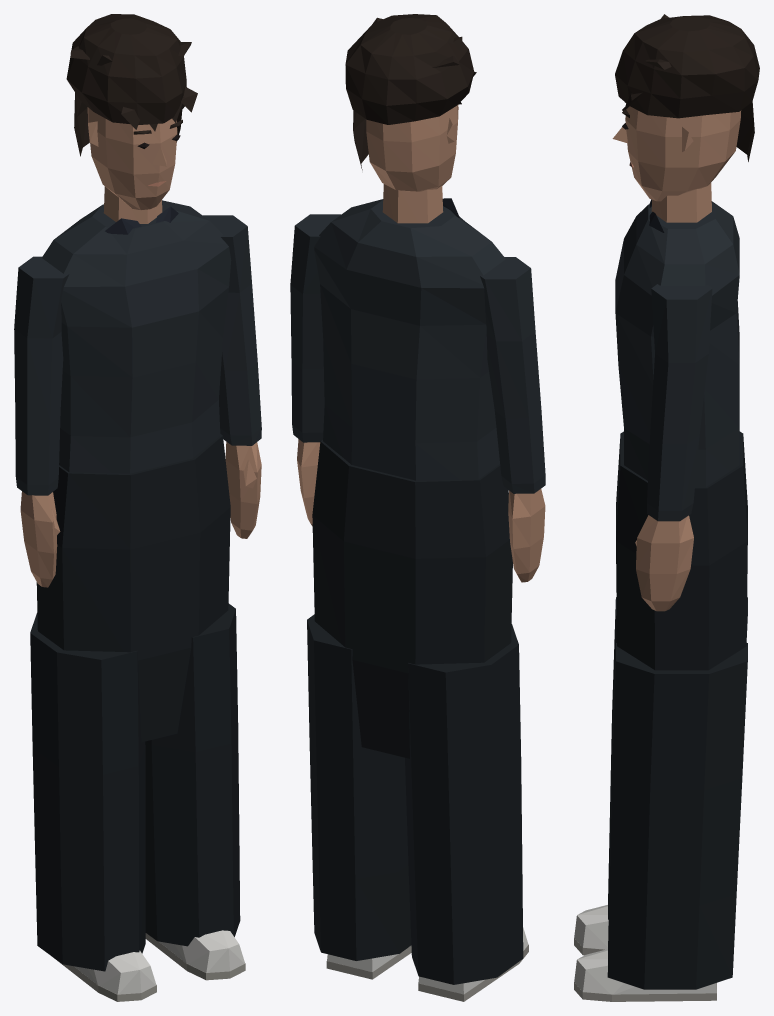
The model's file is zexu.glb.
3 renders of one model, left to right at view 1: azimuth 30°, elevation 25°; view 2: azimuth 150°, elevation 25°; view 3: azimuth 270°, elevation 25°, orthographic. The views are drawn at different scales.
Visible parts, largest first — view 1: zexu; view 2: zexu; view 3: zexu.
Boxes of the visible parts, left/top/right/bottom form: zexu: left=14, top=14, right=261, bottom=1001; zexu: left=290, top=14, right=545, bottom=1001; zexu: left=574, top=14, right=759, bottom=1001.
Bounding box in the file's own units: 0.4761 × 1.79 × 0.3189.
